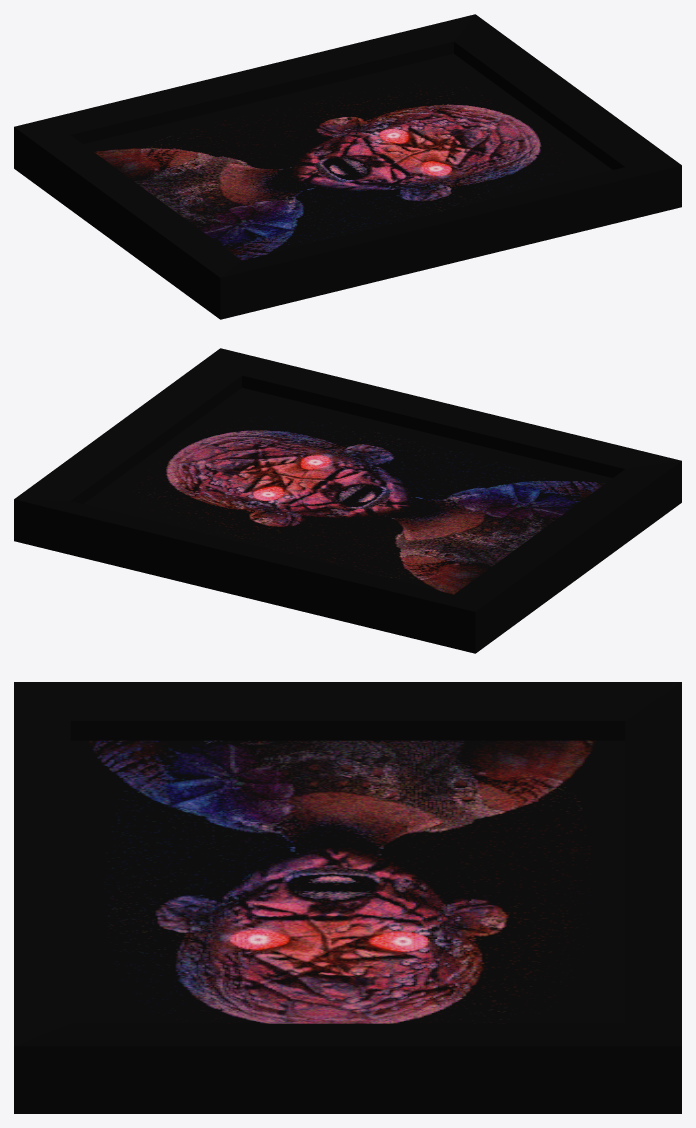
File: foto lily.fbx
3 renders of one model, top to bottom at view 1: azimuth 30°, elevation 25°; view 2: azimuth 150°, elevation 25°; view 3: azimuth 270°, elevation 25°, orthographic. The views are drawn at different scales.
Parts seen in each view (by area): view 1: Cube; view 2: Cube; view 3: Cube.
Part boxes in pixels (<box>): Cube: <box>14,14,681,319</box>; Cube: <box>14,348,681,653</box>; Cube: <box>14,682,681,1113</box>.
Size of the model in its own units: 357 by 30.93 by 277.
